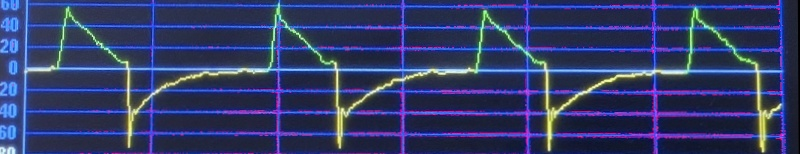normal_flow: (22, 0, 781, 154)
